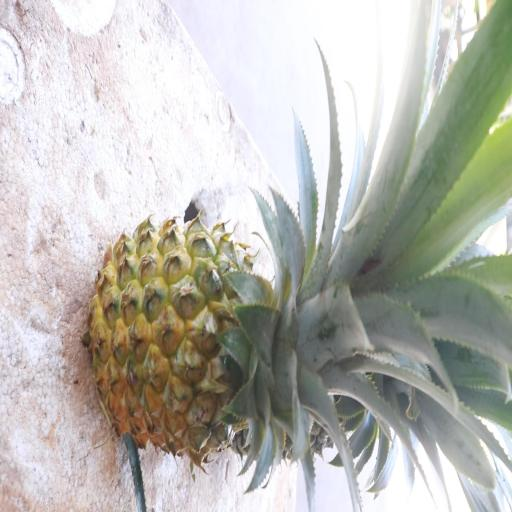Pineapple - v8 v1: (84, 212, 375, 473)
